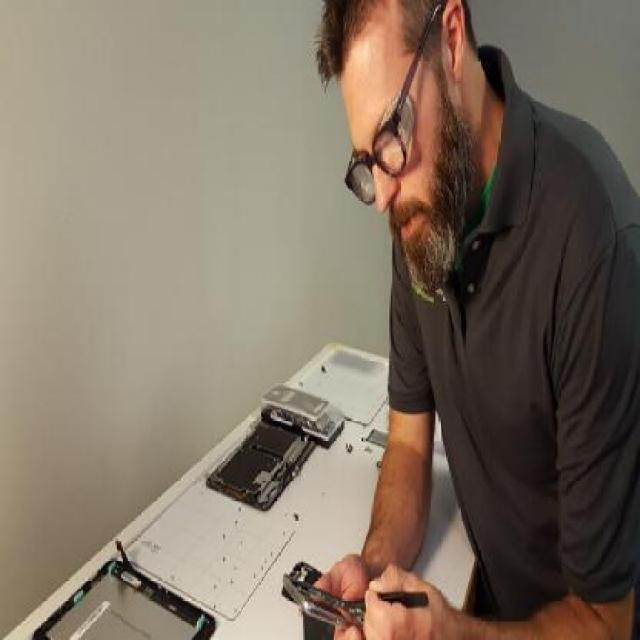face_nomask: (350, 108, 435, 245)
glasses: (344, 110, 448, 208)
hand_noglove: (362, 557, 455, 640)
head_nohelmet: (297, 0, 426, 98)
person: (309, 0, 640, 640)
